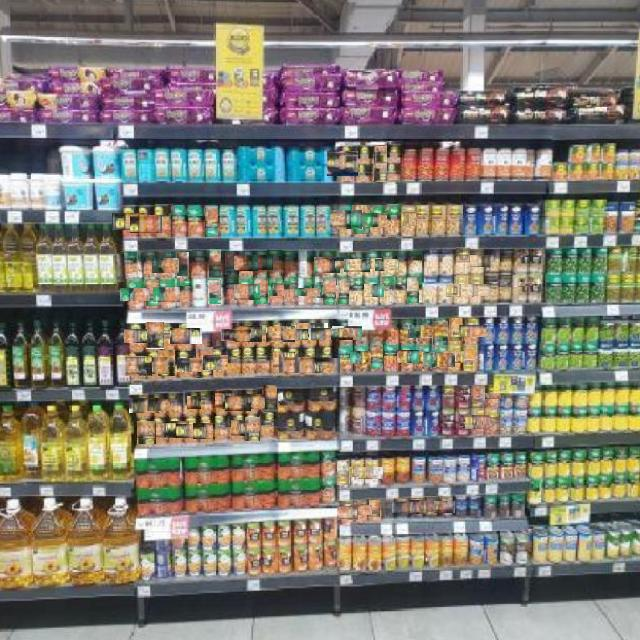Beans: (328, 151, 362, 176), (112, 212, 147, 230), (388, 142, 403, 184), (130, 214, 162, 233), (372, 144, 388, 182), (329, 211, 362, 229), (155, 204, 173, 236), (358, 212, 396, 227), (358, 146, 374, 181), (195, 347, 213, 378), (256, 345, 273, 377), (125, 356, 152, 376), (145, 321, 164, 349), (207, 392, 238, 409), (352, 205, 370, 234), (189, 206, 204, 239), (169, 329, 202, 344), (141, 356, 168, 374), (267, 352, 295, 369), (170, 393, 187, 421), (193, 422, 221, 439), (157, 350, 175, 376), (204, 355, 235, 370), (431, 207, 447, 236), (295, 323, 328, 337), (136, 421, 156, 444), (214, 417, 231, 444), (332, 325, 362, 340), (387, 204, 401, 236), (234, 326, 262, 342), (164, 321, 180, 349), (423, 353, 455, 367), (294, 357, 322, 373), (266, 327, 295, 342), (130, 398, 159, 413), (279, 357, 306, 373), (261, 385, 277, 412), (176, 396, 209, 409), (172, 205, 186, 235), (261, 413, 276, 441), (314, 257, 340, 273), (153, 257, 179, 273), (234, 284, 260, 300), (154, 286, 180, 302), (310, 327, 342, 340), (163, 420, 189, 436), (456, 248, 470, 277), (205, 206, 218, 237), (233, 255, 258, 271), (432, 320, 448, 345), (394, 212, 422, 226), (417, 205, 430, 235), (124, 253, 139, 279), (447, 207, 461, 234), (322, 278, 336, 305), (409, 324, 436, 338), (244, 348, 258, 375), (224, 397, 251, 411), (149, 424, 176, 438), (121, 288, 150, 301), (222, 328, 251, 341), (202, 391, 215, 420), (315, 358, 340, 373), (240, 394, 265, 409), (268, 250, 282, 276), (193, 251, 207, 277), (143, 252, 157, 278), (462, 283, 490, 296), (254, 278, 268, 304), (145, 280, 159, 306), (177, 424, 203, 438), (249, 255, 273, 270), (178, 357, 202, 372), (245, 417, 260, 441), (379, 276, 392, 303), (264, 283, 291, 296), (447, 284, 474, 297), (284, 251, 298, 276), (401, 318, 415, 343), (465, 415, 490, 429), (209, 249, 221, 278), (224, 252, 239, 275), (406, 277, 419, 303), (336, 278, 349, 304), (485, 408, 498, 434), (350, 279, 364, 303), (315, 284, 339, 298), (207, 280, 221, 304), (177, 280, 191, 304), (459, 325, 487, 337), (229, 351, 243, 375), (336, 460, 349, 485), (358, 466, 383, 479), (147, 399, 174, 411), (409, 252, 423, 275), (350, 350, 373, 364), (471, 385, 485, 408), (344, 260, 370, 272), (285, 278, 297, 304), (370, 345, 383, 369), (464, 345, 476, 371), (177, 251, 189, 276), (359, 285, 384, 297), (394, 351, 419, 363), (228, 421, 248, 436), (449, 318, 462, 341), (124, 330, 147, 343), (337, 506, 358, 520), (375, 259, 399, 271), (226, 278, 238, 302), (443, 351, 467, 363), (385, 346, 397, 370), (280, 330, 308, 340), (407, 500, 427, 514), (338, 348, 350, 371), (465, 256, 490, 267), (396, 250, 407, 275), (344, 466, 369, 477), (332, 327, 353, 340), (434, 501, 455, 513), (413, 352, 435, 363), (361, 258, 382, 269), (425, 497, 437, 515), (392, 503, 413, 513), (351, 505, 372, 515), (368, 500, 380, 517), (296, 288, 320, 296), (478, 392, 501, 399), (335, 261, 353, 268)
